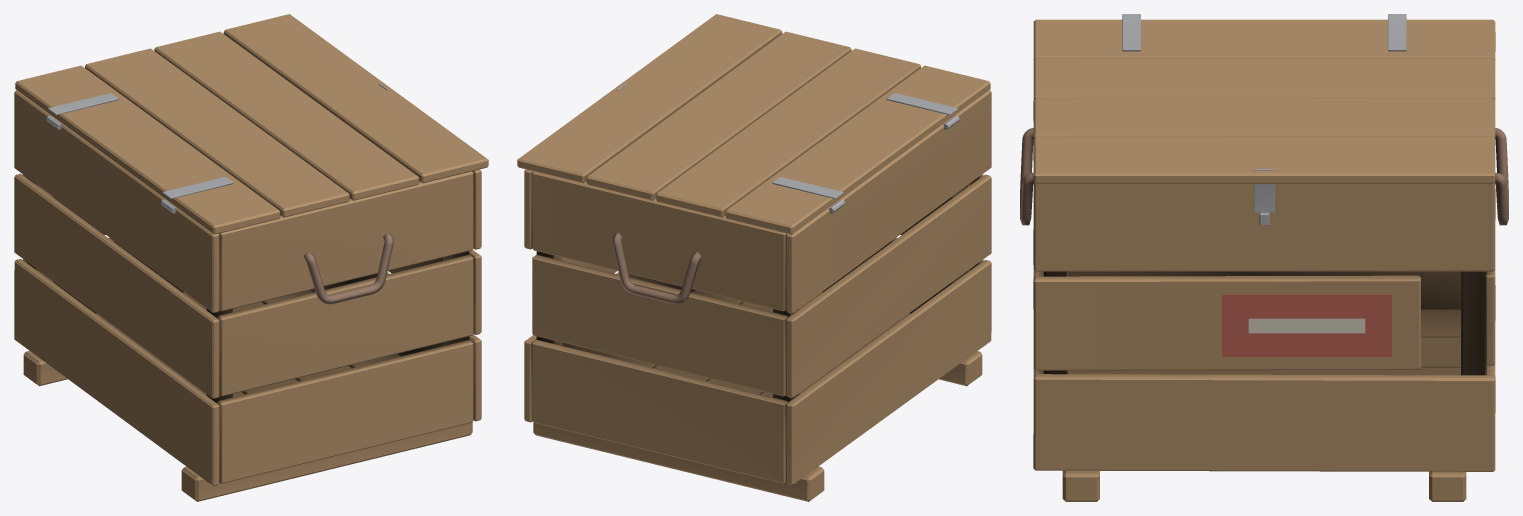
Rendered from crate.glb.
3 views of the same model, side by side, from view 1: azimuth 30°, elevation 25°; view 2: azimuth 150°, elevation 25°; view 3: azimuth 270°, elevation 25° (orthographic). The views are drawn at different scales.
Visible parts, largest first — view 1: PART, LID; view 2: PART, LID; view 3: PART, LID.
Boxes of the visible parts, x1=… form: PART: x1=14, y1=90, x2=481, y2=501; LID: x1=15, y1=14, x2=488, y2=234; PART: x1=524, y1=90, x2=991, y2=501; LID: x1=517, y1=14, x2=990, y2=234; PART: x1=1020, y1=32, x2=1508, y2=501; LID: x1=1033, y1=14, x2=1495, y2=212.
Size of the model in its own units: 0.7075 by 0.691 by 0.921.
